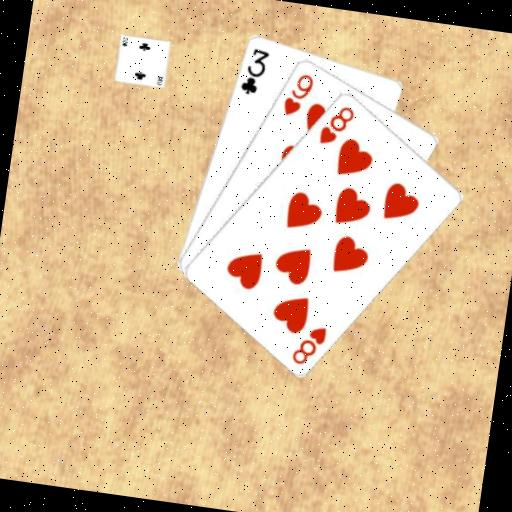3C: (236, 43, 272, 98)
8H: (315, 99, 357, 149), (288, 319, 329, 369)
9H: (279, 68, 317, 120)
